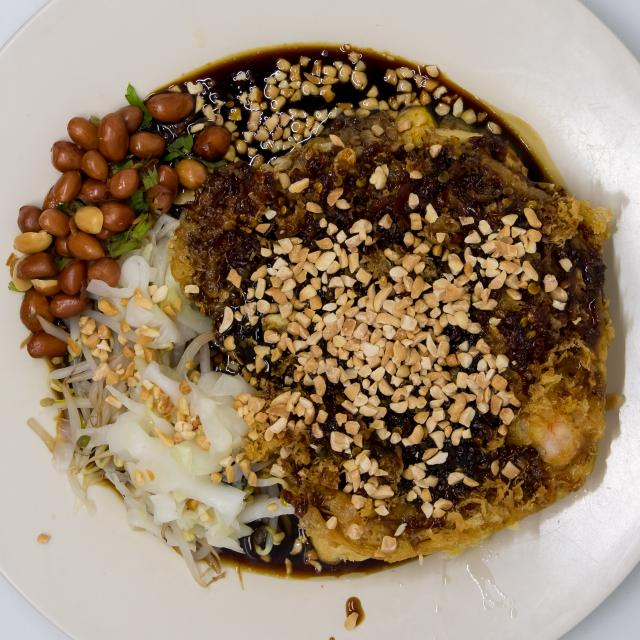Tahu-Telur: (11, 26, 624, 579)
